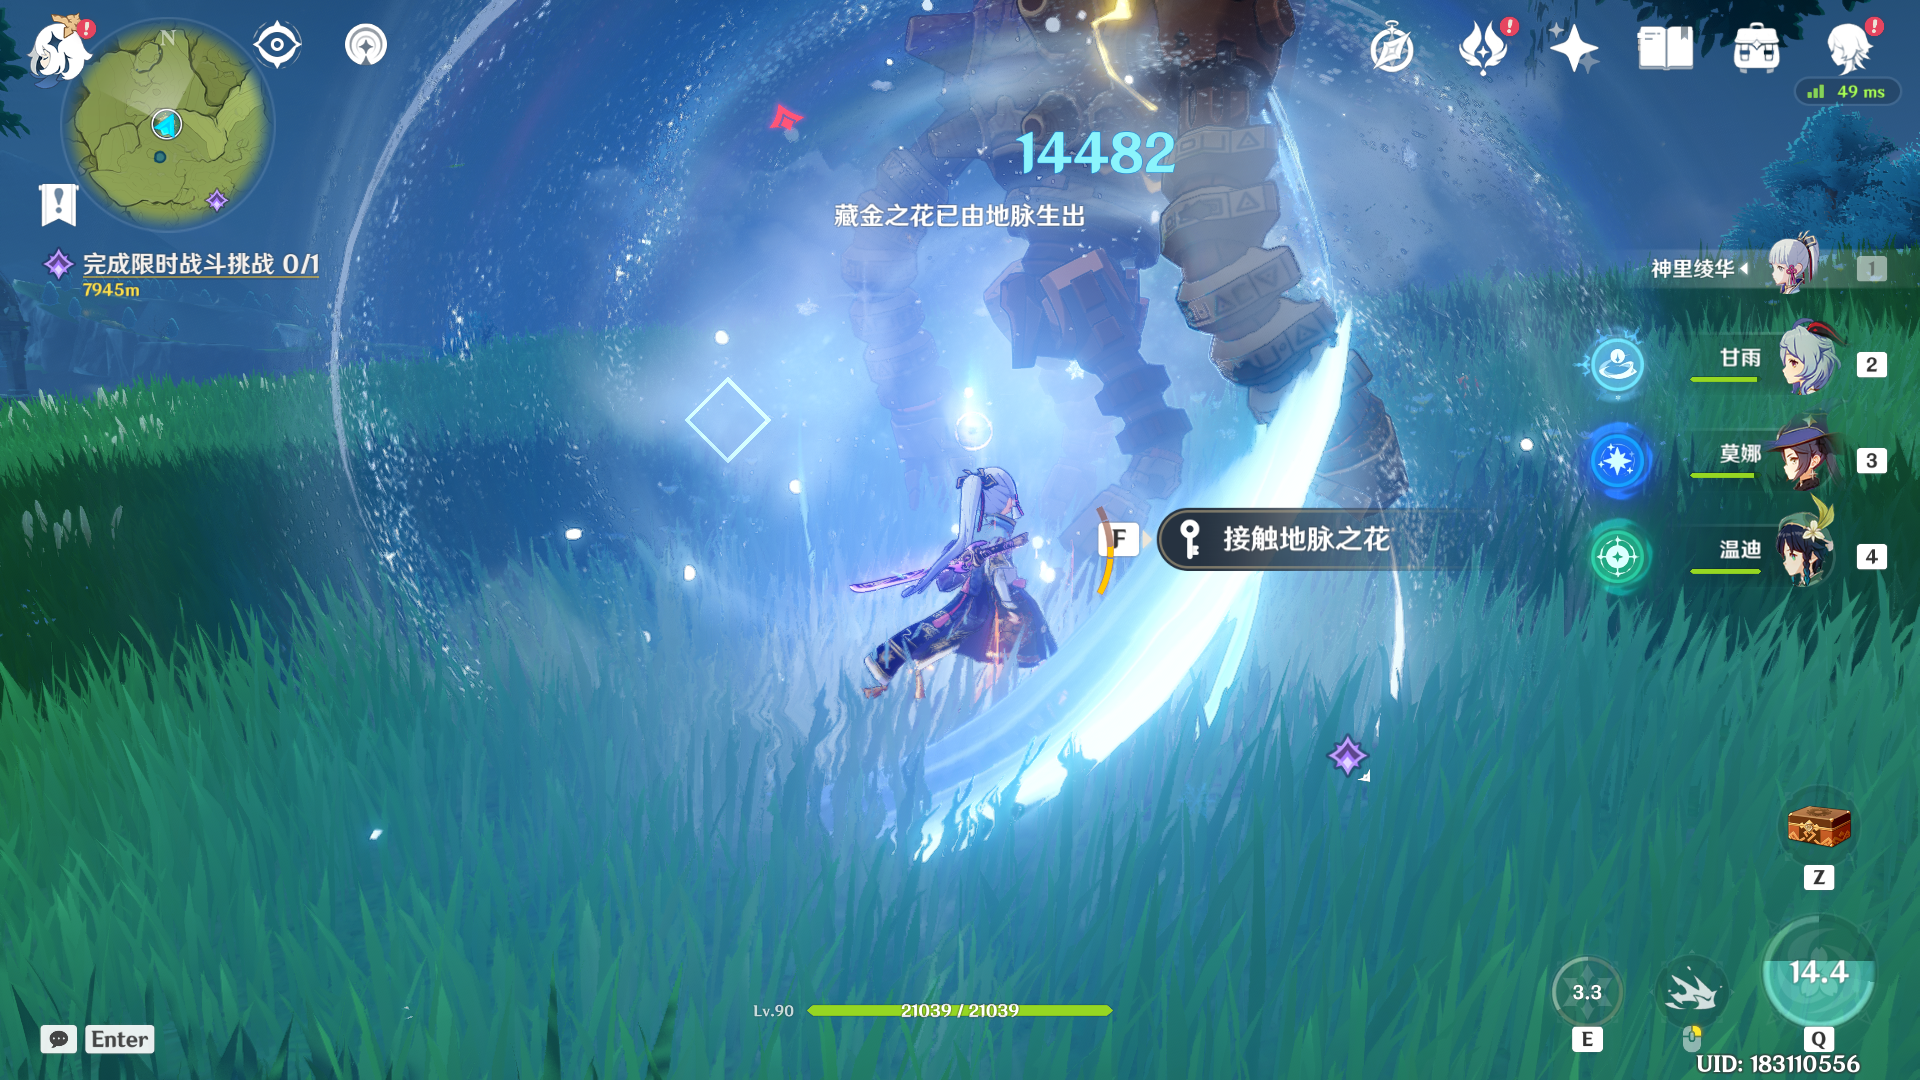character: (820, 440, 1104, 796)
